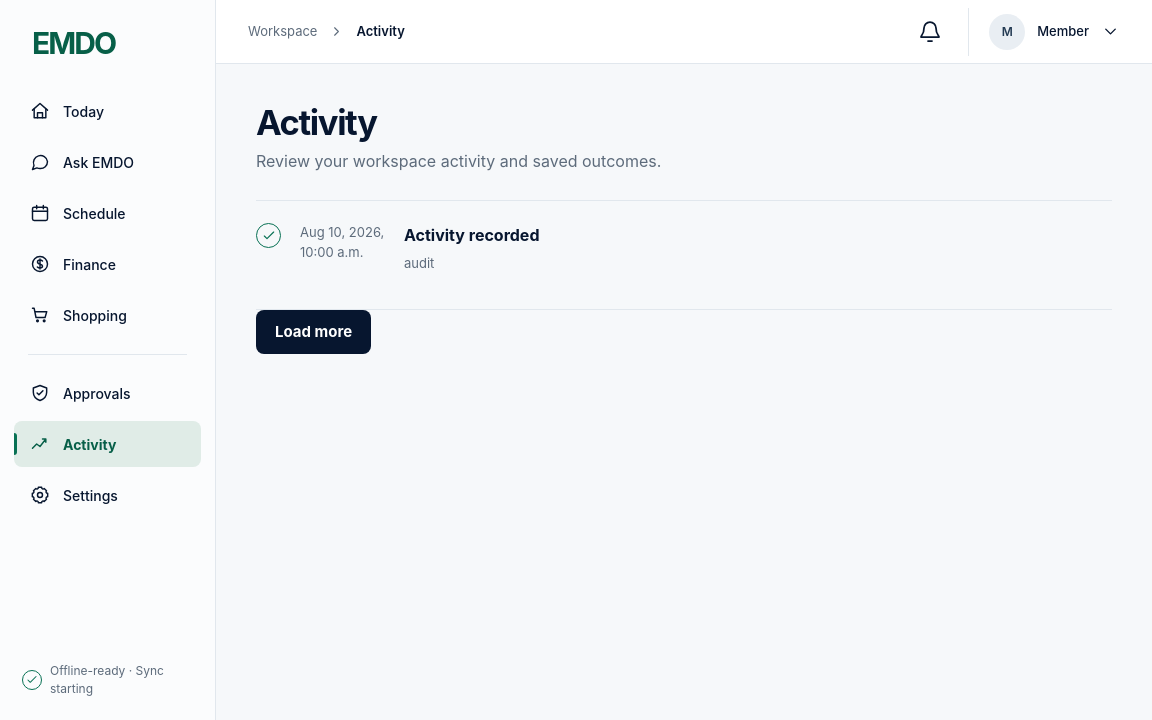
it: truthful experience routes › appends a bounded Activity page using only the returned cursor
This screenshot has width=1152, height=720.
Expected: the heading "Activity recorded" is shown, [404,225,540,245]
Click the button "Load more": (314, 332) [256,310,371,354]
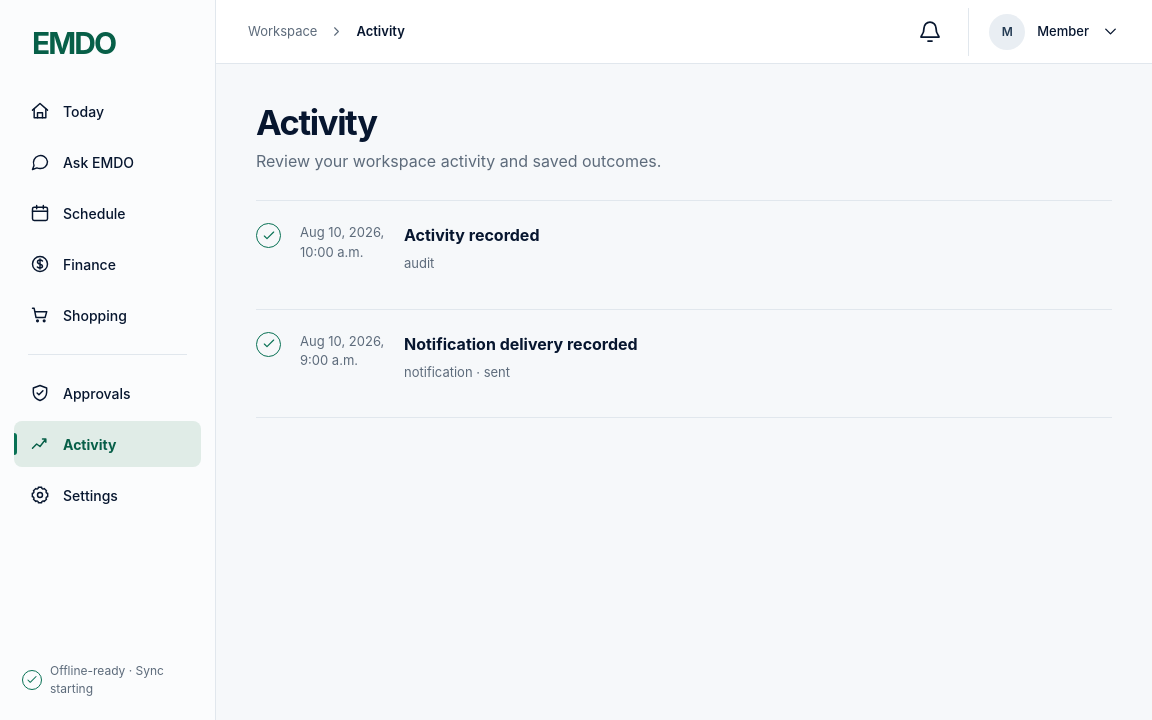
Expected: the heading "Notification delivery recorded" is shown, [404,334,638,354]
